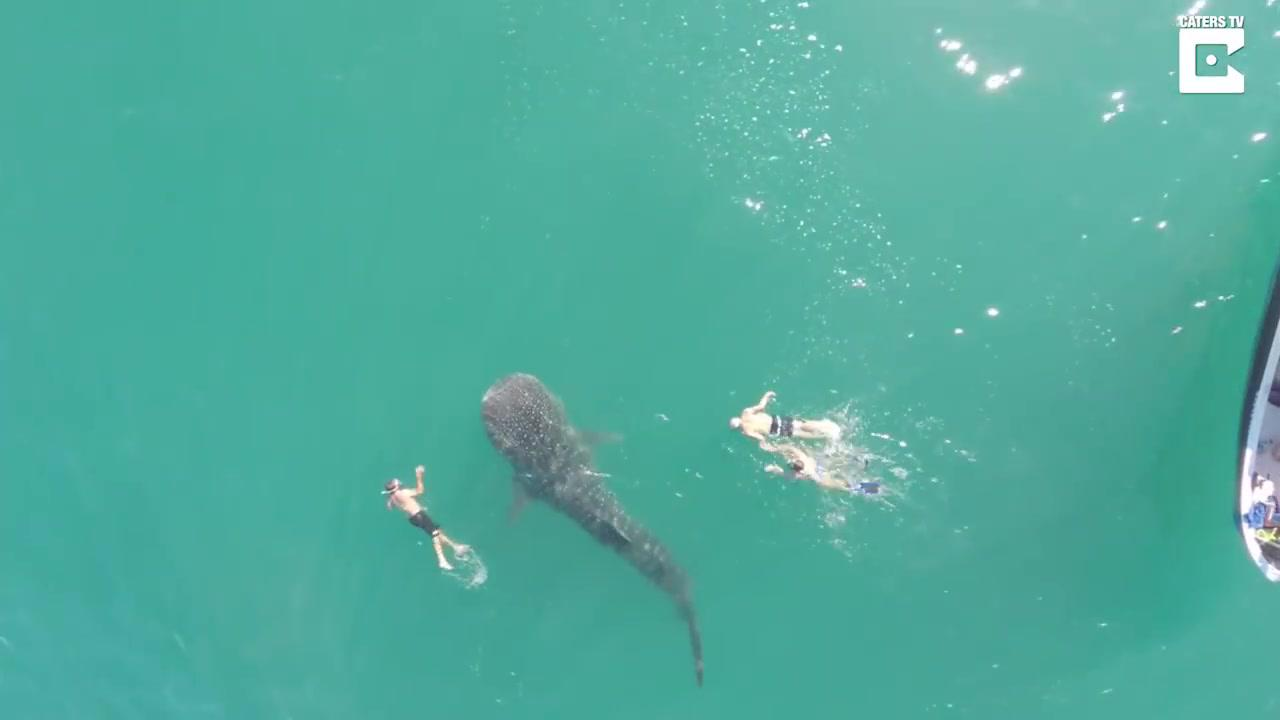swimmer: (374, 472, 479, 590), (710, 390, 871, 448), (762, 442, 892, 500)
